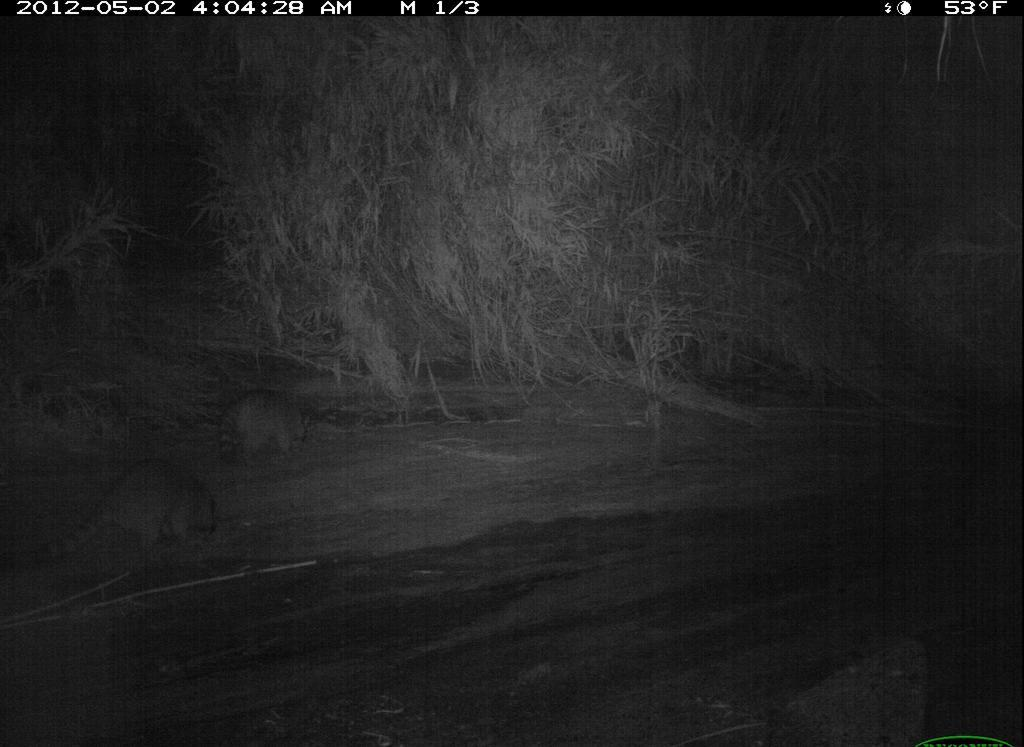raccoon: (24, 461, 239, 585), (204, 377, 340, 470)
